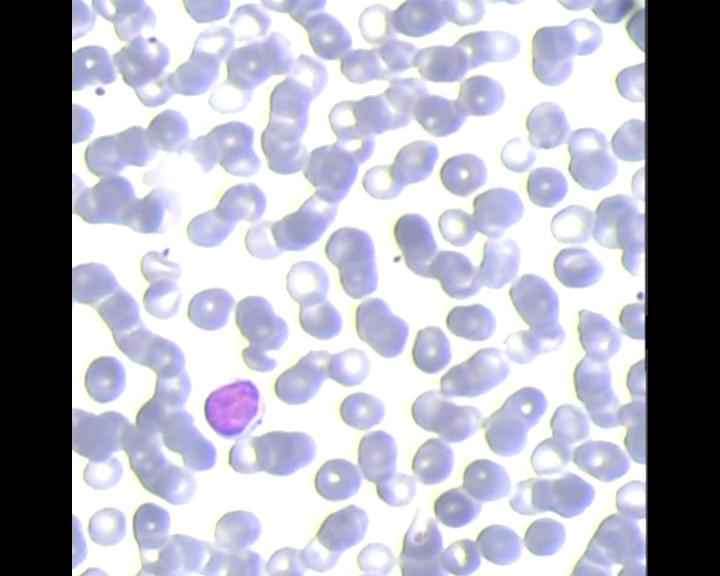lymp: (199, 376, 270, 444)
